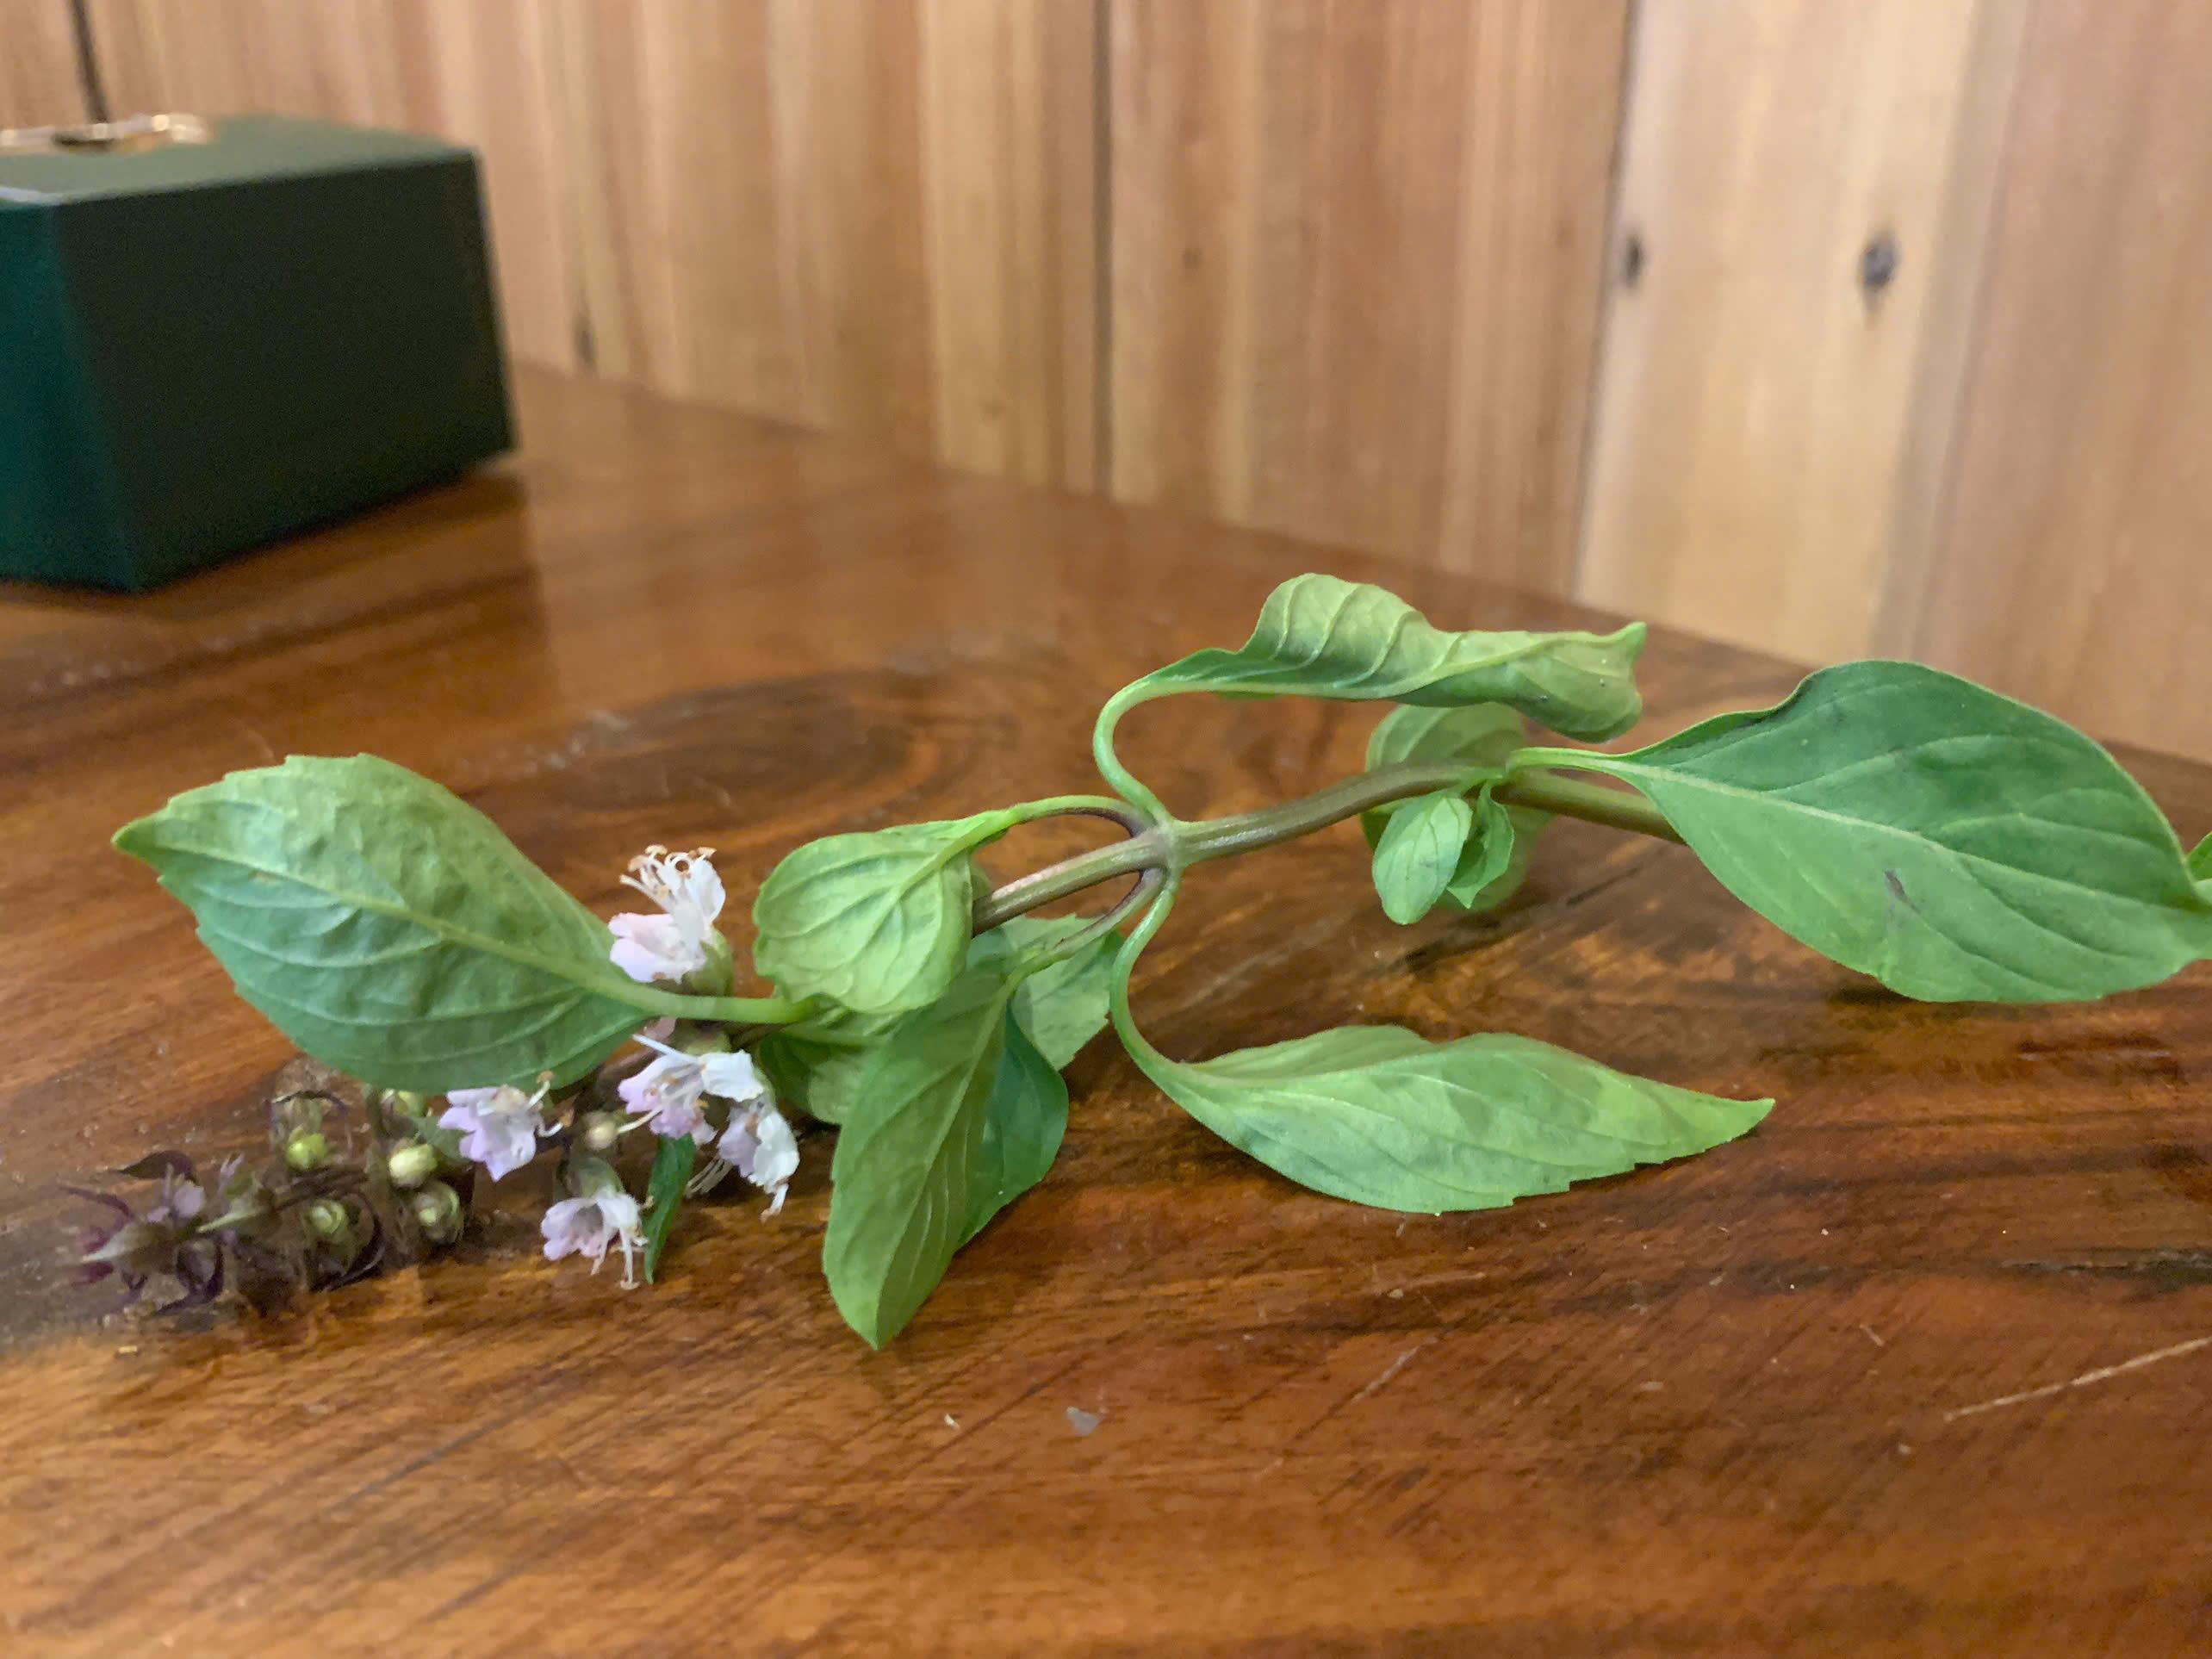Huu co: (134, 572, 2212, 1265)
